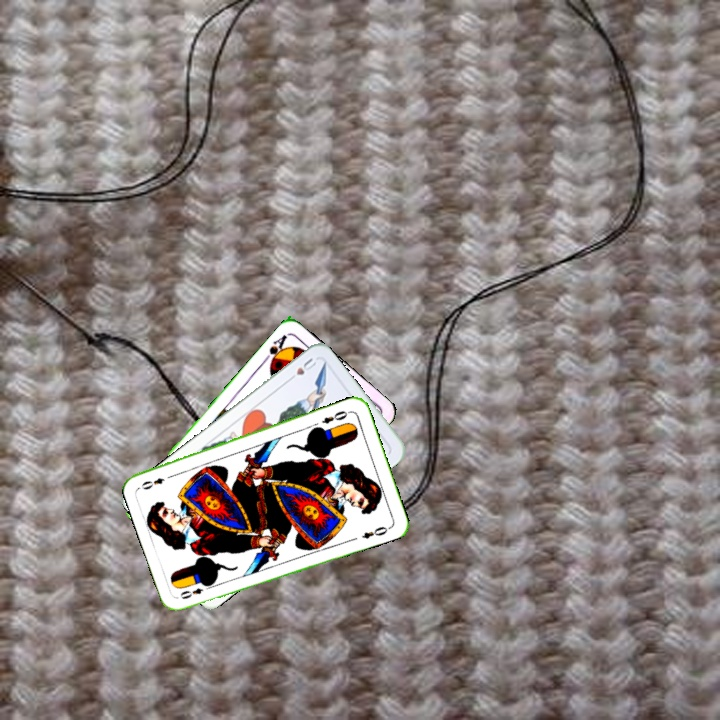EO: (176, 580, 214, 602), (318, 406, 353, 426)
HU: (283, 353, 319, 384)
SA: (260, 330, 290, 369)
